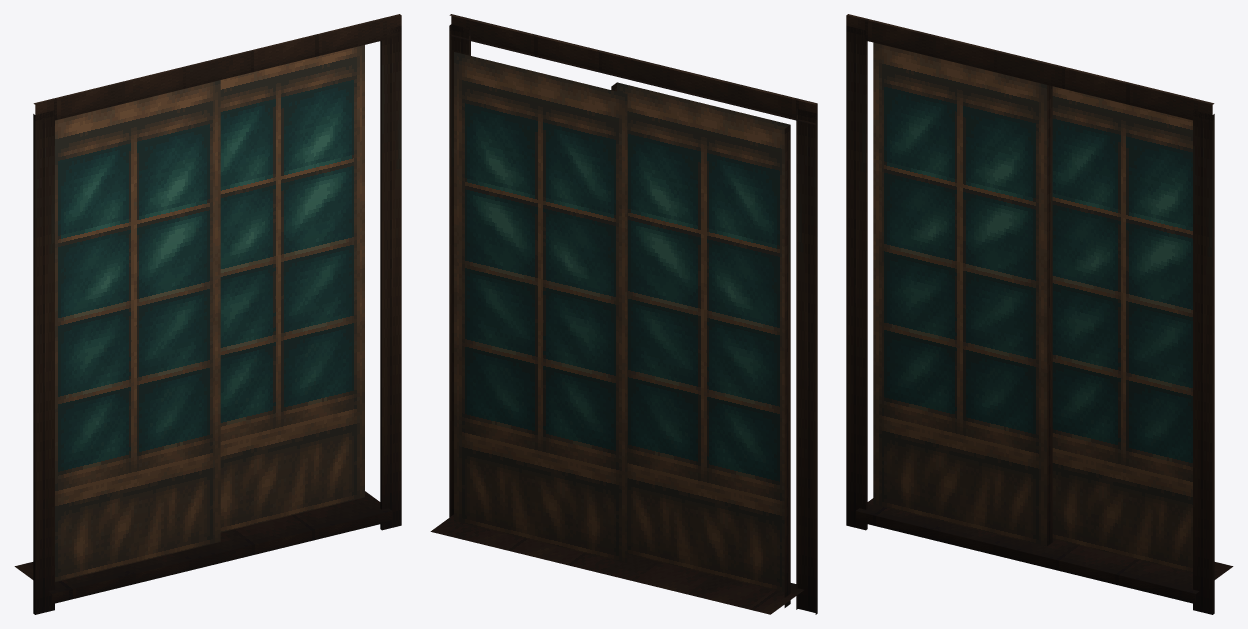
File: prop_sash-10-14-1.glb
The picture shows the model from 3 angles, left to right: view 1: azimuth 30°, elevation 25°; view 2: azimuth 150°, elevation 25°; view 3: azimuth 330°, elevation 25°; orthographic projection.
Visible parts, largest first — view 1: prop_sash-10-14-1; view 2: prop_sash-10-14-1; view 3: prop_sash-10-14-1.
Boxes of the visible parts, <box> form: prop_sash-10-14-1: <box>14,14,401,614</box>; prop_sash-10-14-1: <box>430,14,817,614</box>; prop_sash-10-14-1: <box>846,14,1233,614</box>.
Size of the model in its own units: 1.12 by 1.49 by 0.2.
2 materials, 2 textured.
